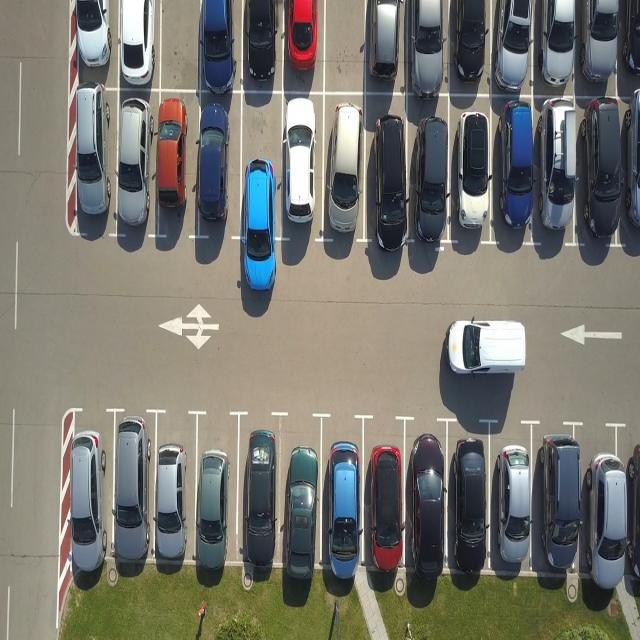space-empty: (322, 0, 369, 91), (160, 2, 205, 91)
space-occupied: (575, 445, 634, 607), (570, 105, 625, 247), (532, 438, 584, 588), (195, 88, 243, 250), (109, 408, 156, 570), (193, 410, 241, 568), (320, 91, 368, 248), (446, 417, 494, 574), (404, 414, 449, 581), (360, 414, 404, 584), (237, 412, 284, 571), (277, 90, 322, 256), (321, 415, 366, 581), (240, 94, 285, 260), (361, 93, 410, 245), (65, 87, 114, 235), (278, 414, 322, 578), (154, 410, 199, 570), (532, 105, 582, 243), (487, 430, 533, 580), (156, 93, 200, 248), (72, 409, 112, 579), (406, 96, 452, 242), (488, 106, 537, 243), (114, 88, 158, 238), (451, 106, 498, 246), (570, 0, 620, 94), (533, 0, 581, 95), (488, 2, 535, 98), (448, 0, 496, 93), (403, 0, 450, 93), (116, 0, 164, 87), (281, 0, 326, 92), (71, 0, 118, 87), (242, 0, 287, 90), (197, 2, 242, 92), (362, 2, 405, 96), (618, 106, 640, 251), (618, 0, 640, 94)
